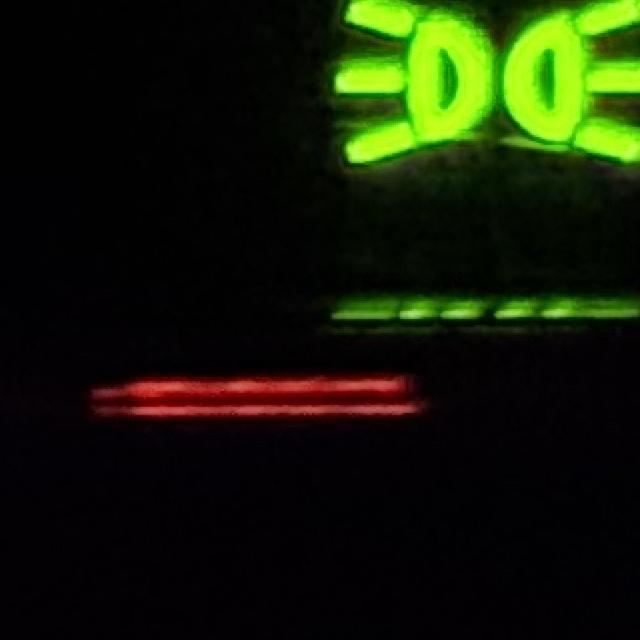Parking Light On: (334, 1, 640, 168)
